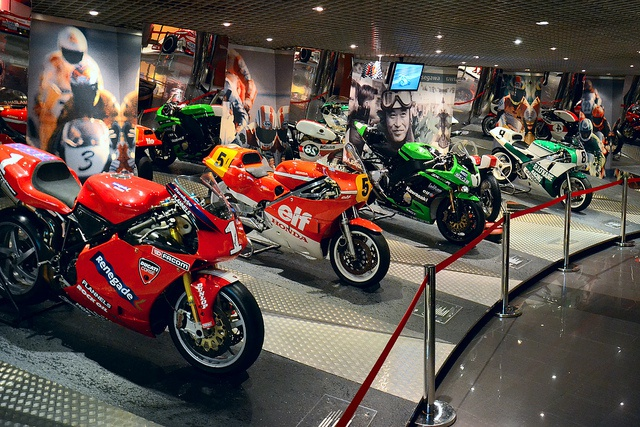non-vehicle: (1, 143, 277, 375), (202, 117, 396, 280), (351, 118, 484, 246), (490, 127, 592, 212), (151, 96, 220, 167), (472, 151, 502, 220), (533, 104, 580, 142), (481, 98, 500, 136)
